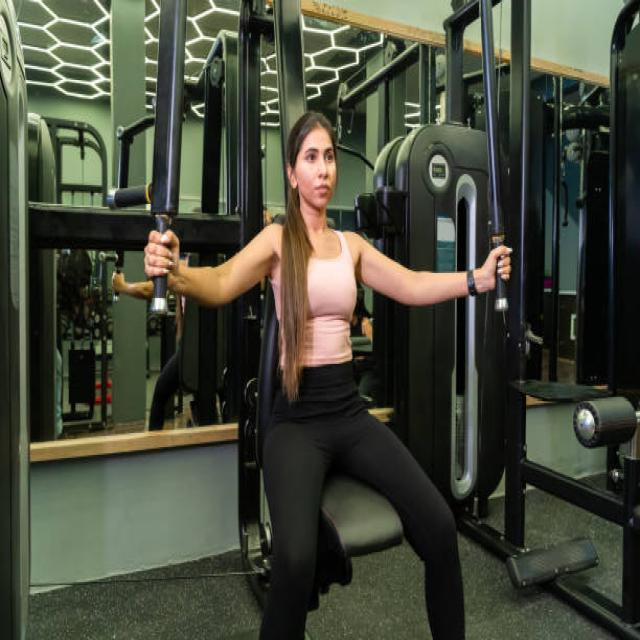no_helmet: (283, 177, 341, 231)
